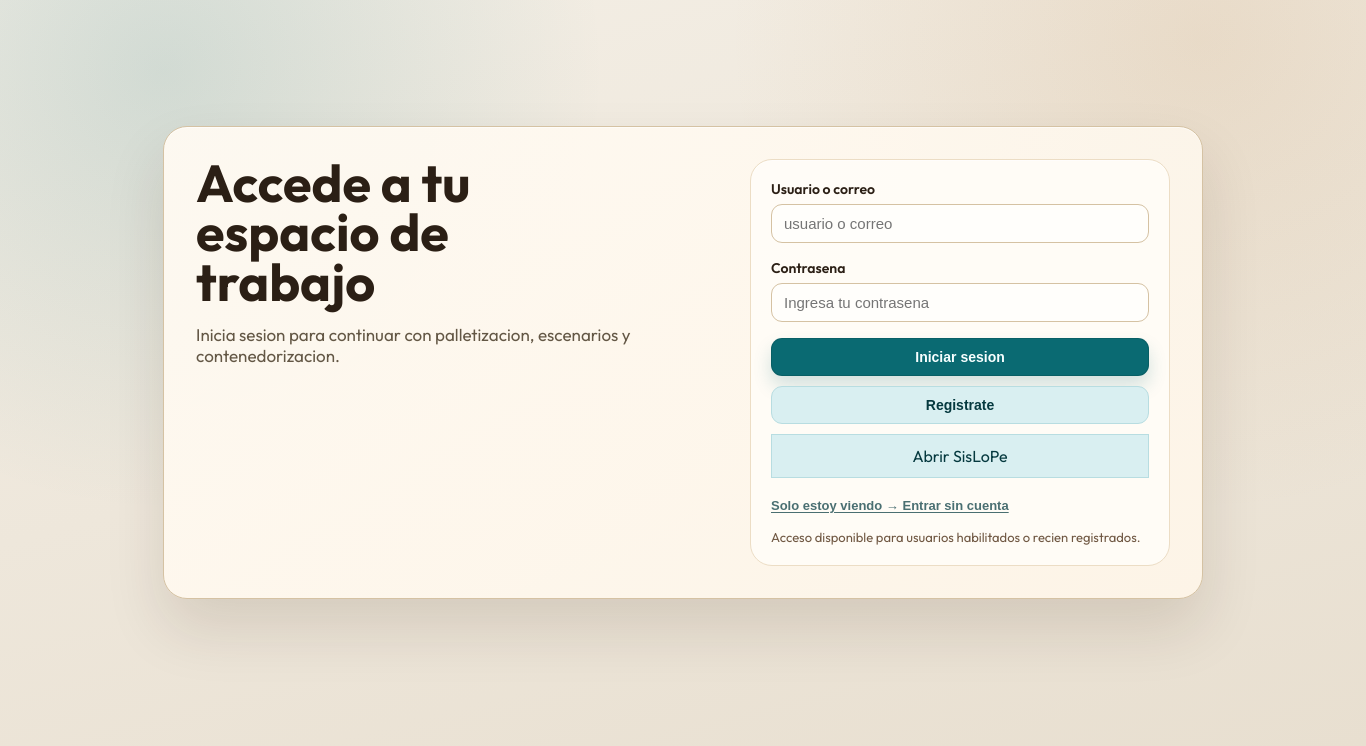
Scenario: Guardar con gate de visitante › visitante: Guardar abre el popup de registro y no guarda escenarios
The image size is (1366, 746).
Click the button "Solo estoy viendo → Entrar sin cuenta": (890,505) [771,498,1009,512]
(page scrolled)
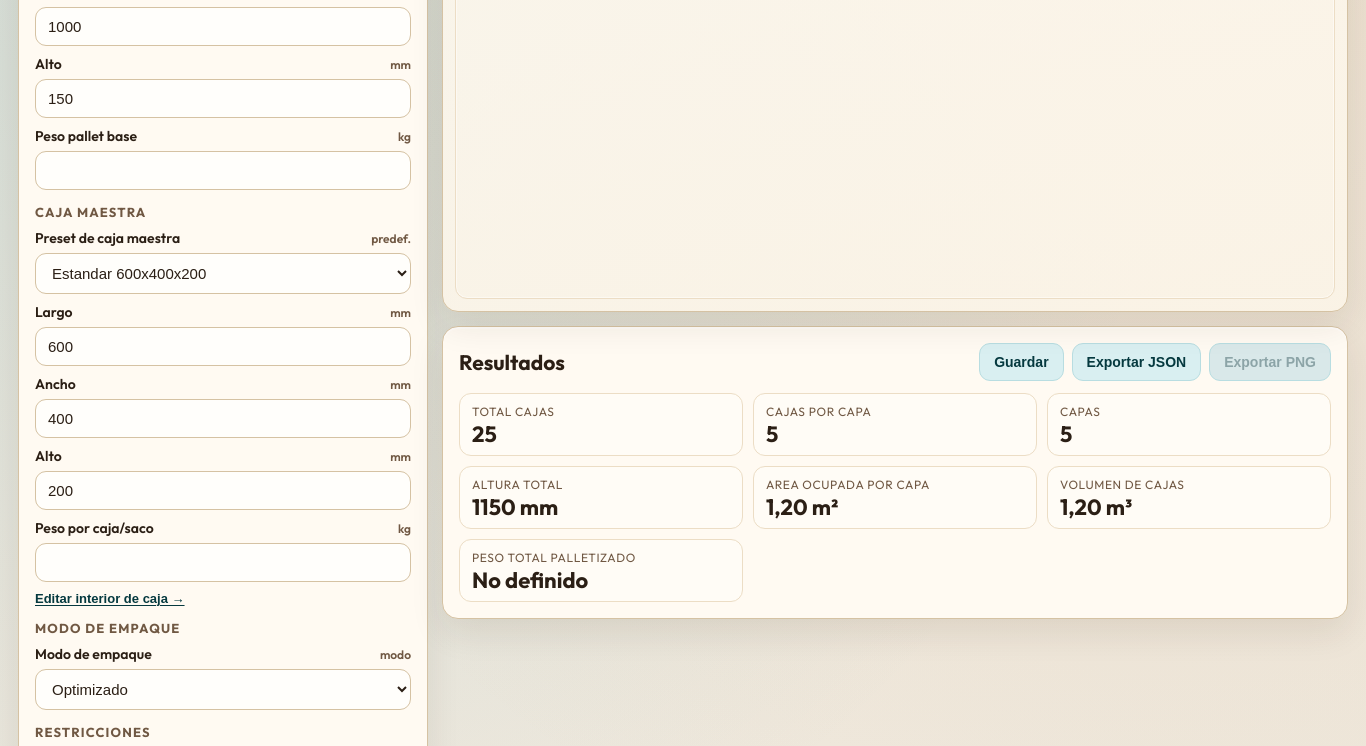
Click the button "Guardar": (1021,362) [979,343,1064,381]
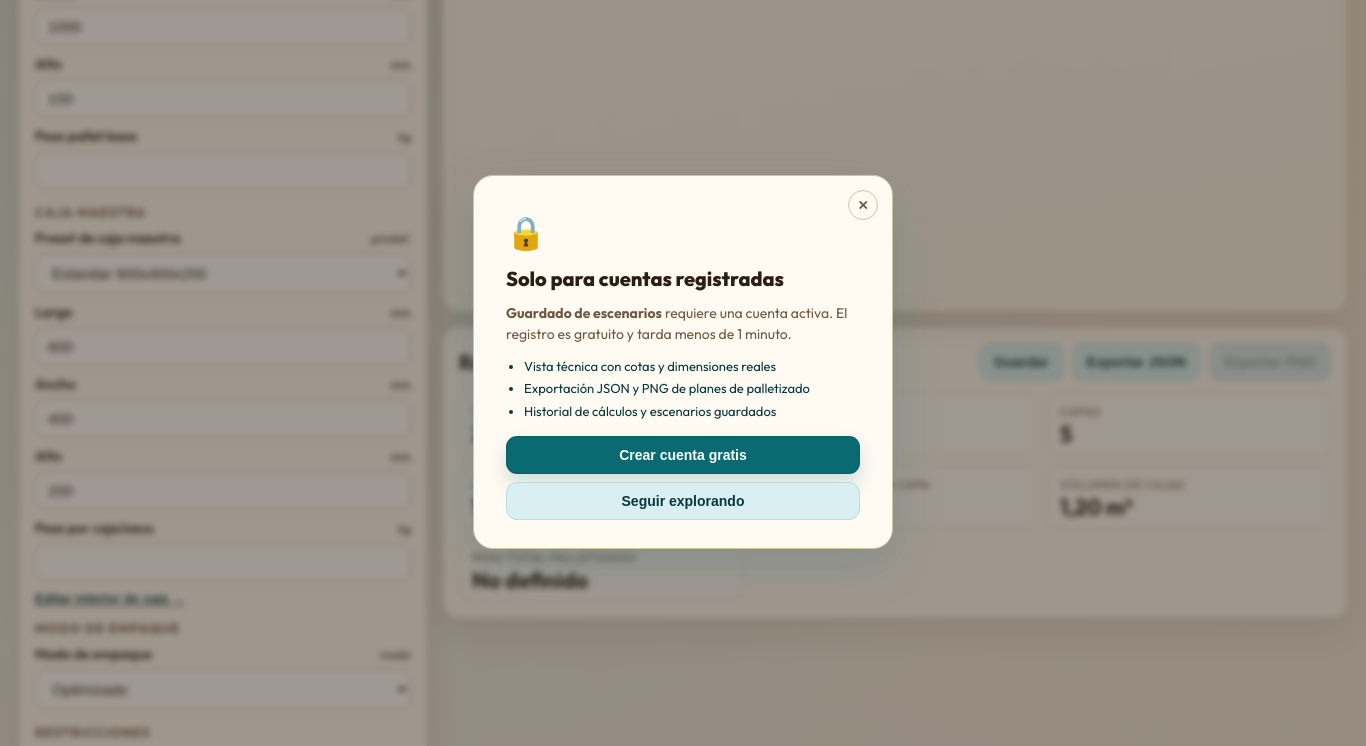
Result: the heading "Solo para cuentas registradas" is shown at [506,266,784,291]
Result: the text "Guardado de escenarios" is shown at [506,304,662,322]
Click the button "Seguir explorando": (683,501) [506,482,860,520]
(page scrolled)
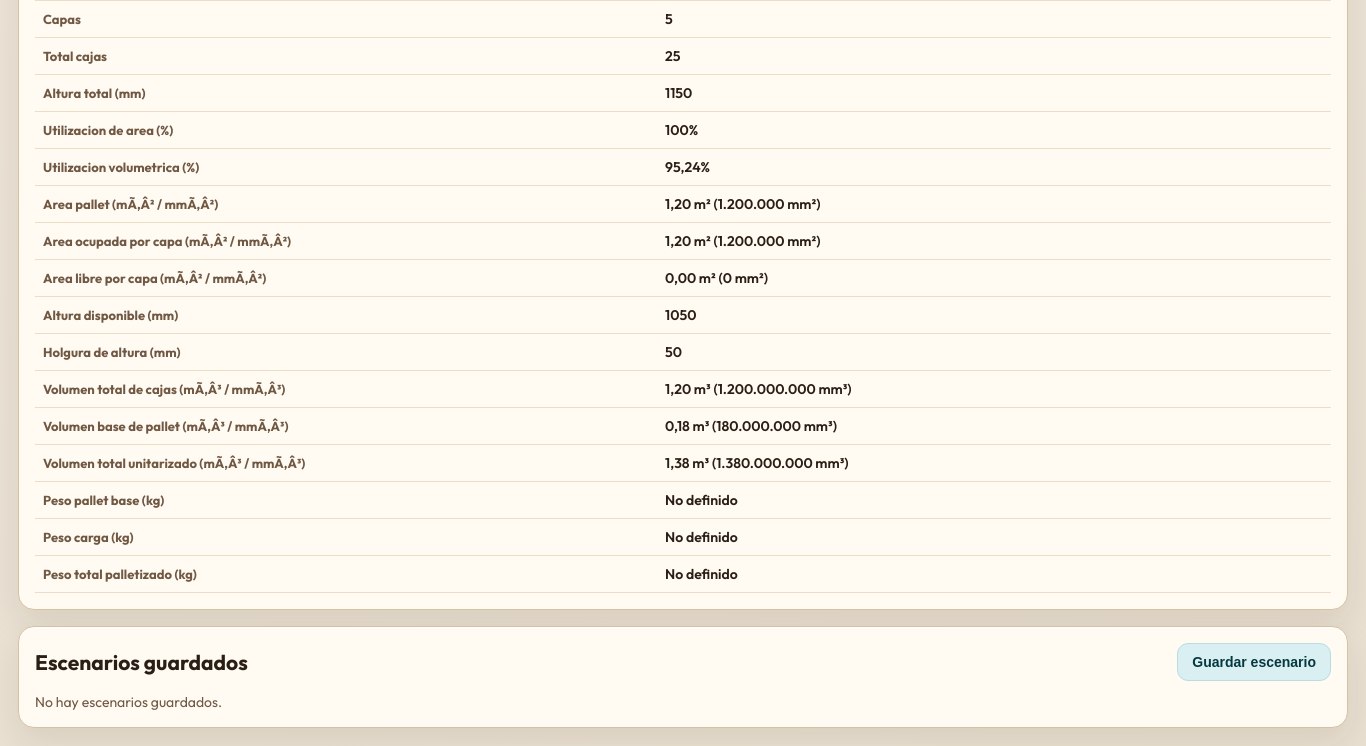
Result: the text "No hay escenarios guardados." is shown at [35,693,222,711]
Result: the heading "Solo para cuentas registradas" is gone
